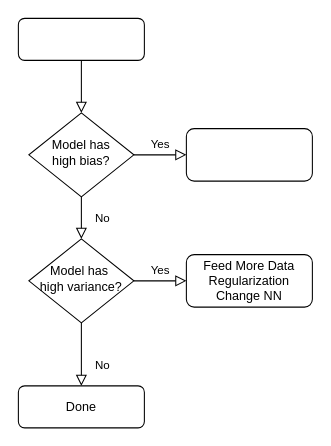
The diagram is 331 pixels wide and 446 high, and some of its shapes have lost their labels. The shapes that lost their labels are listed below. From the top down, each one's centre as x and y in pixels, then its label:
At pixel 80 38: "Model has Error".
At pixel 248 154: "Bigger Model Train Longer Change NN".
